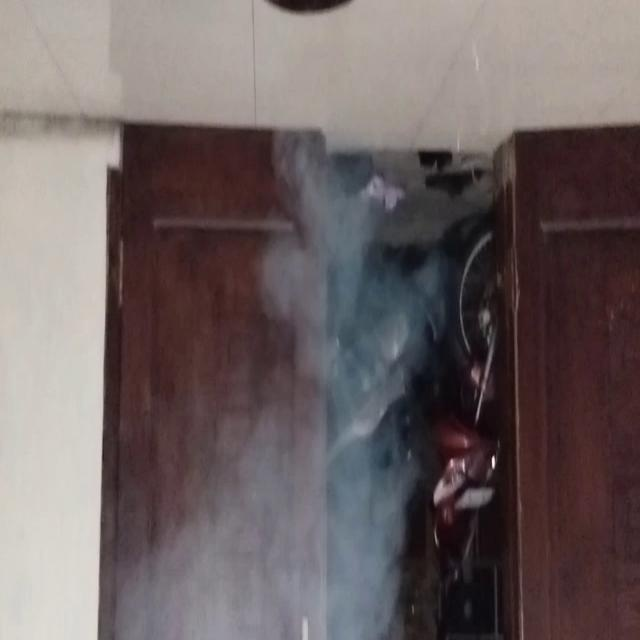smoke: (205, 138, 403, 629)
